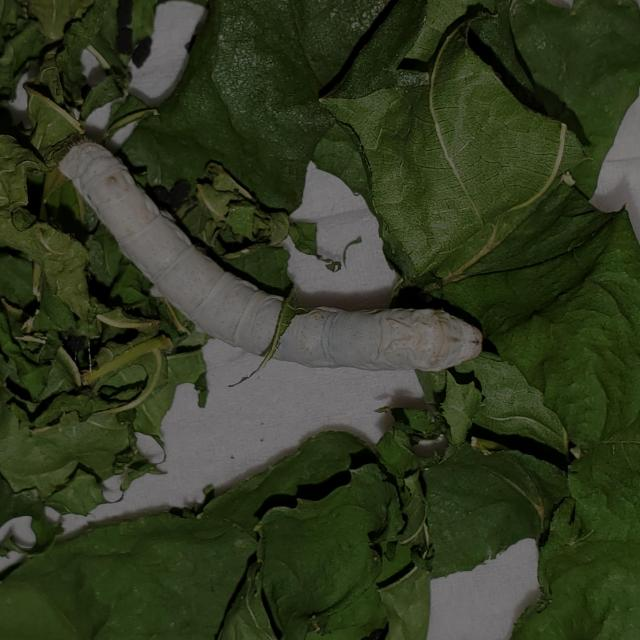Healthy: (41, 98, 488, 497)
